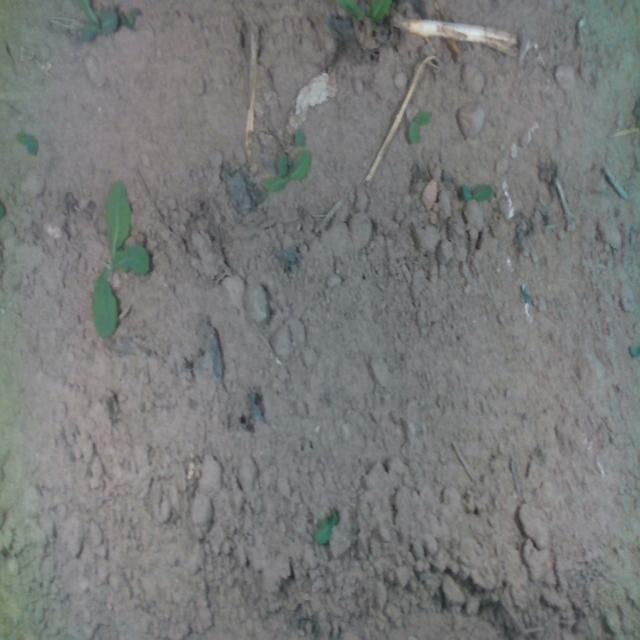weed: (90, 177, 150, 340), (259, 145, 311, 193), (407, 107, 433, 145), (461, 180, 493, 202)
